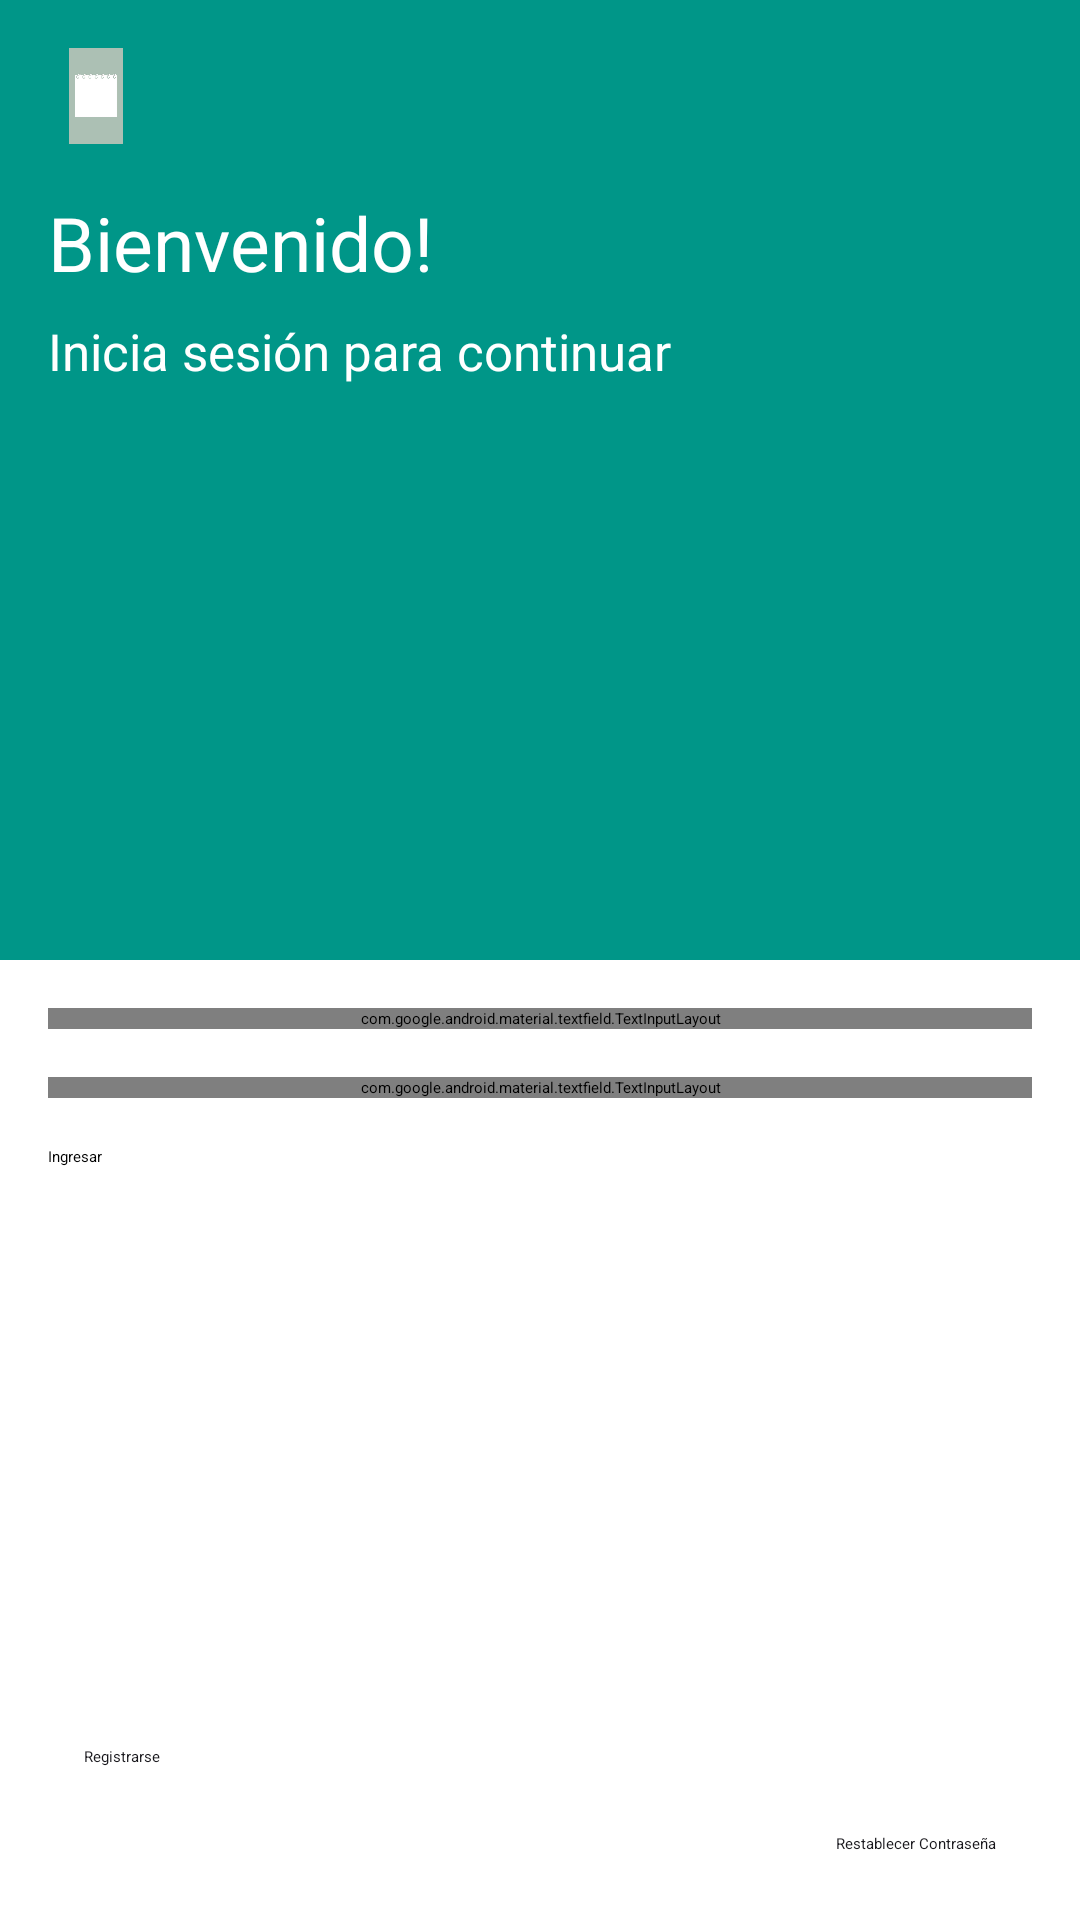

Named icons in this screenshot (1080w x 1920h) and their bounding boxes, (x1, y1, x2, y2):
notebook: (69, 48, 123, 144)
